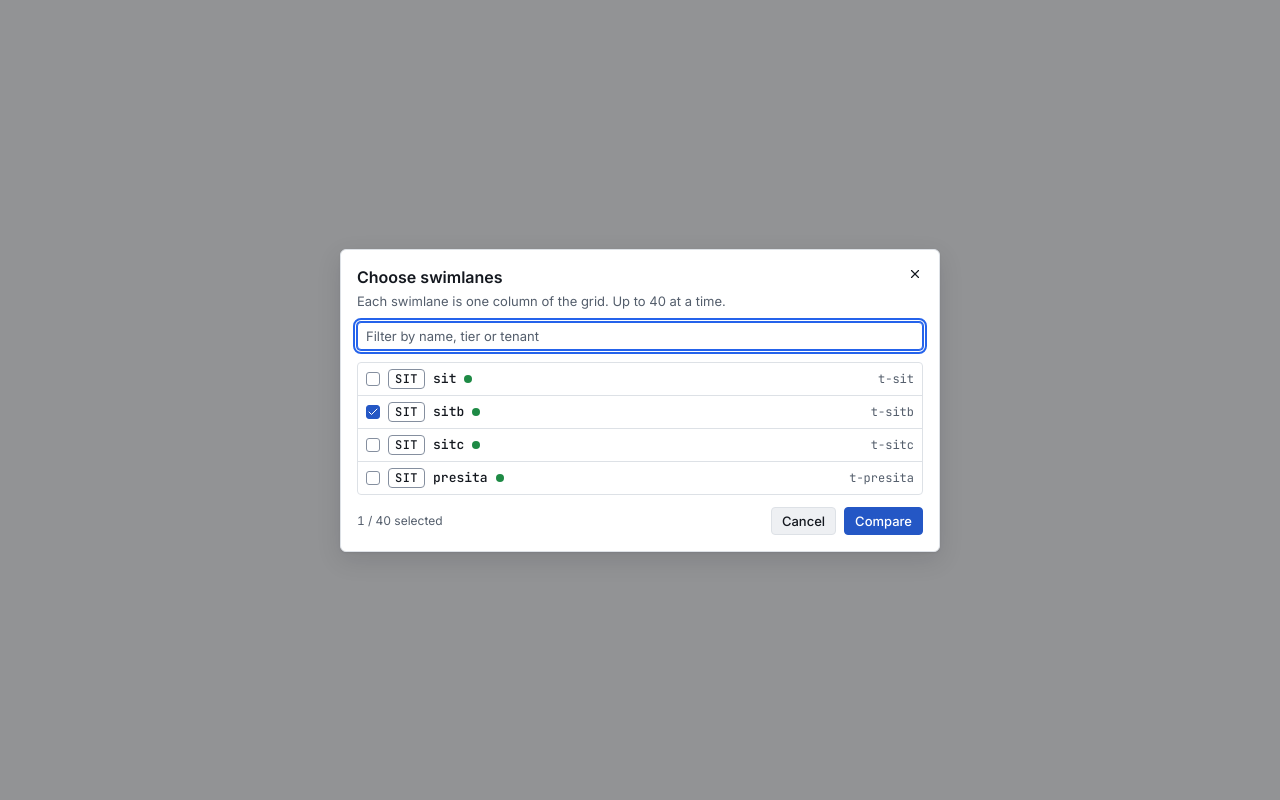
Test: choosing swimlanes › filters by name, tier and tenant
Type "presit" into the field named "Filter swimlanes" at (640, 336), box [357, 322, 923, 350]
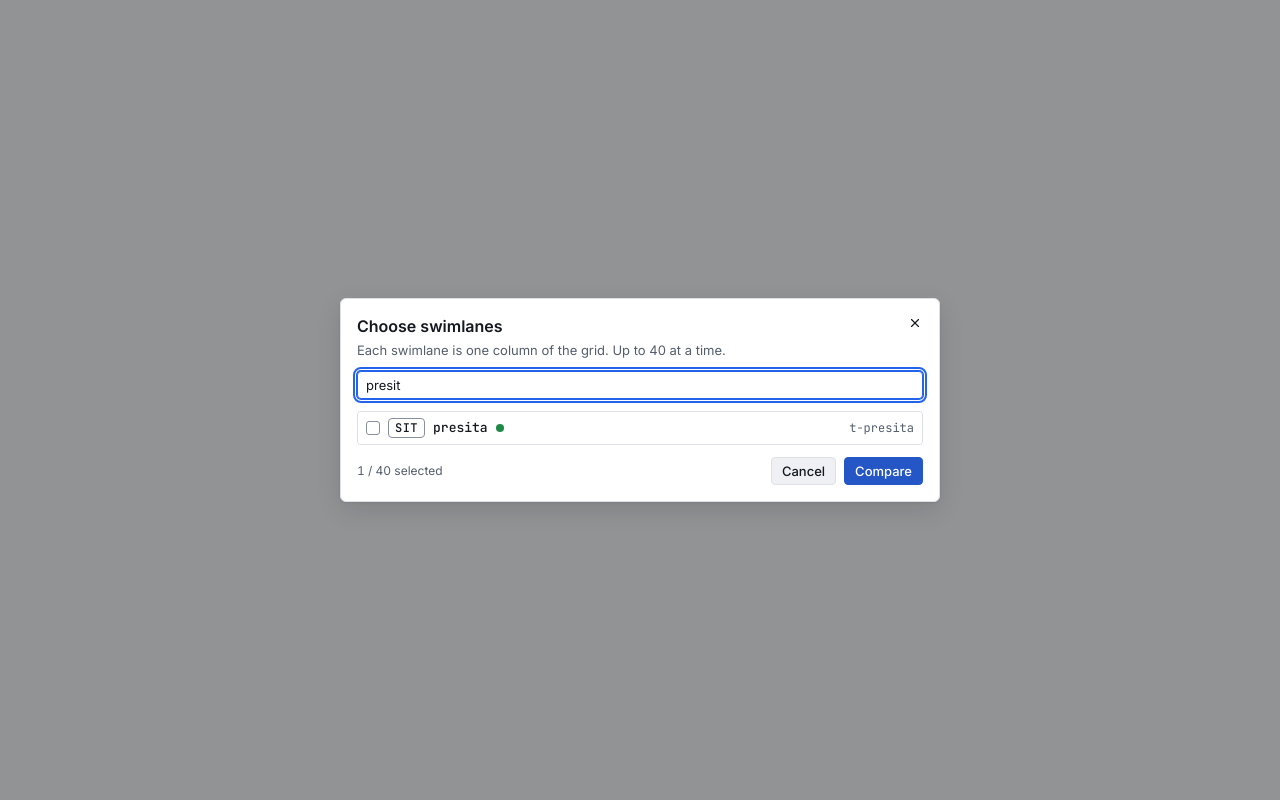
expect the number of checkboxes is 1: met, box [366, 421, 380, 435]
Clear the field named "Filter swimlanes" at (640, 385), box [357, 371, 923, 399]
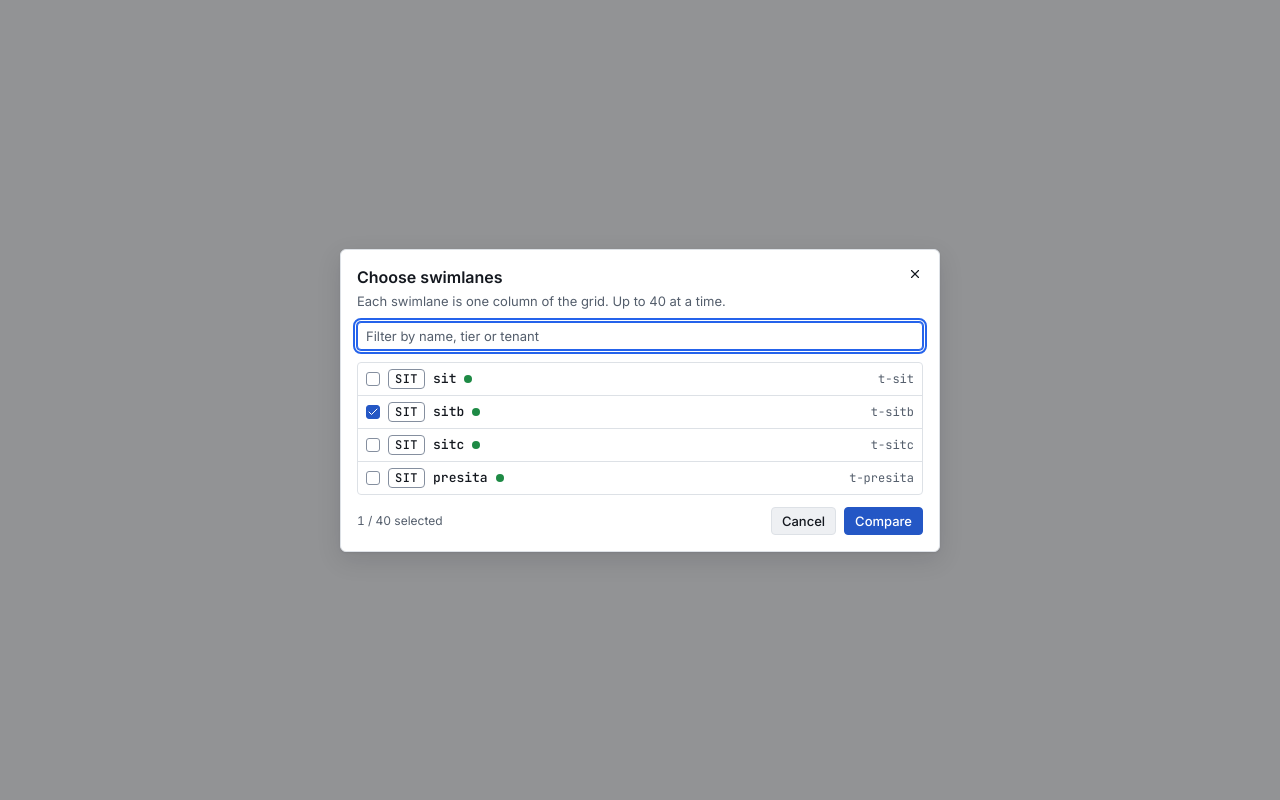
Type "t-sitc" into the field named "Filter swimlanes" at (640, 336), box [357, 322, 923, 350]
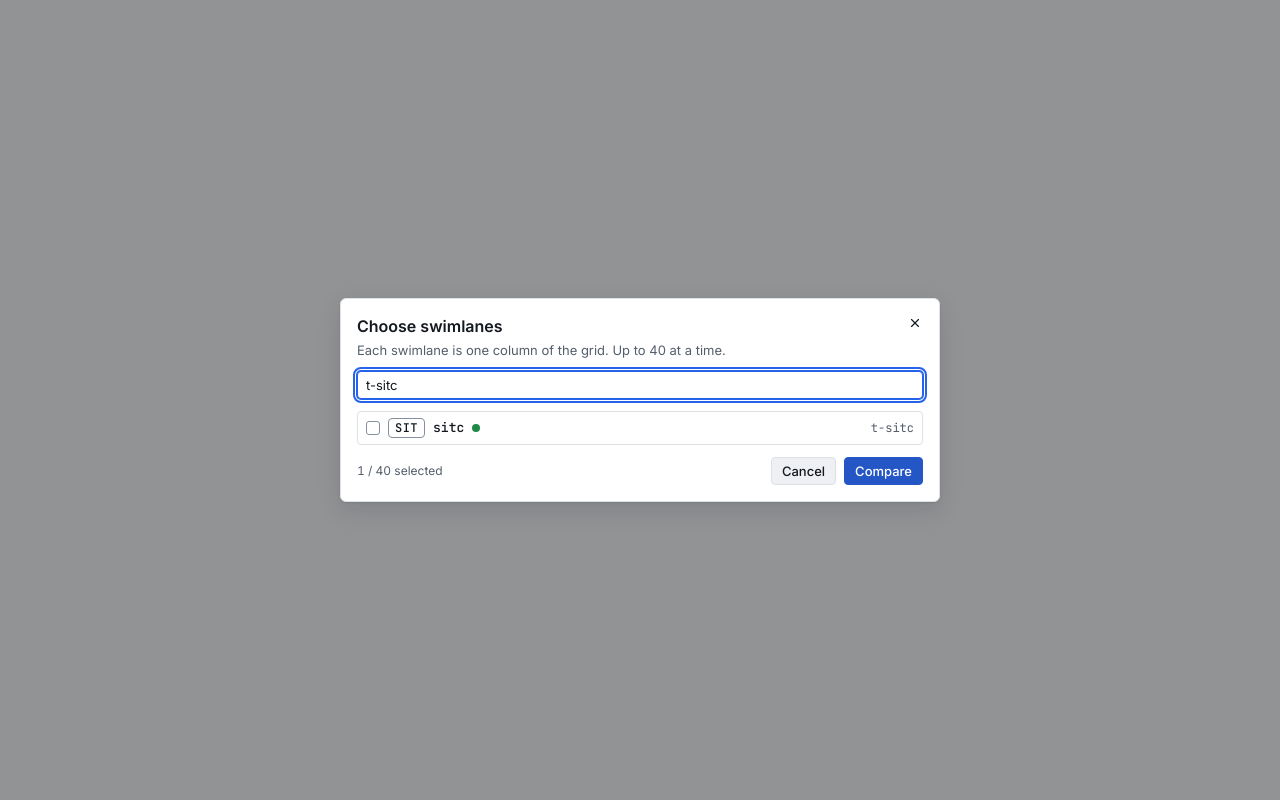
expect the checkbox named "sitc" is shown: met, box [366, 421, 380, 435]
Clear the field named "Filter swimlanes" at (640, 385), box [357, 371, 923, 399]
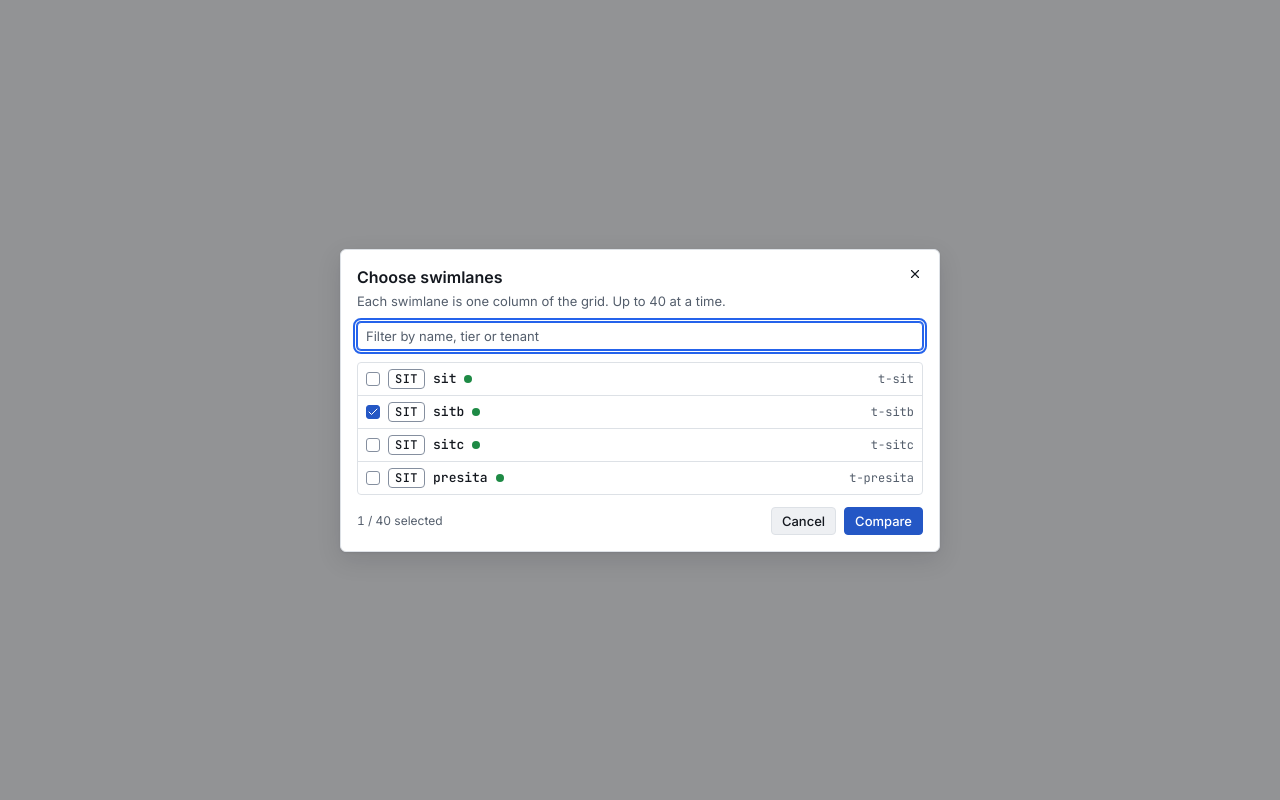
Type "zzz" into the field named "Filter swimlanes" at (640, 336), box [357, 322, 923, 350]
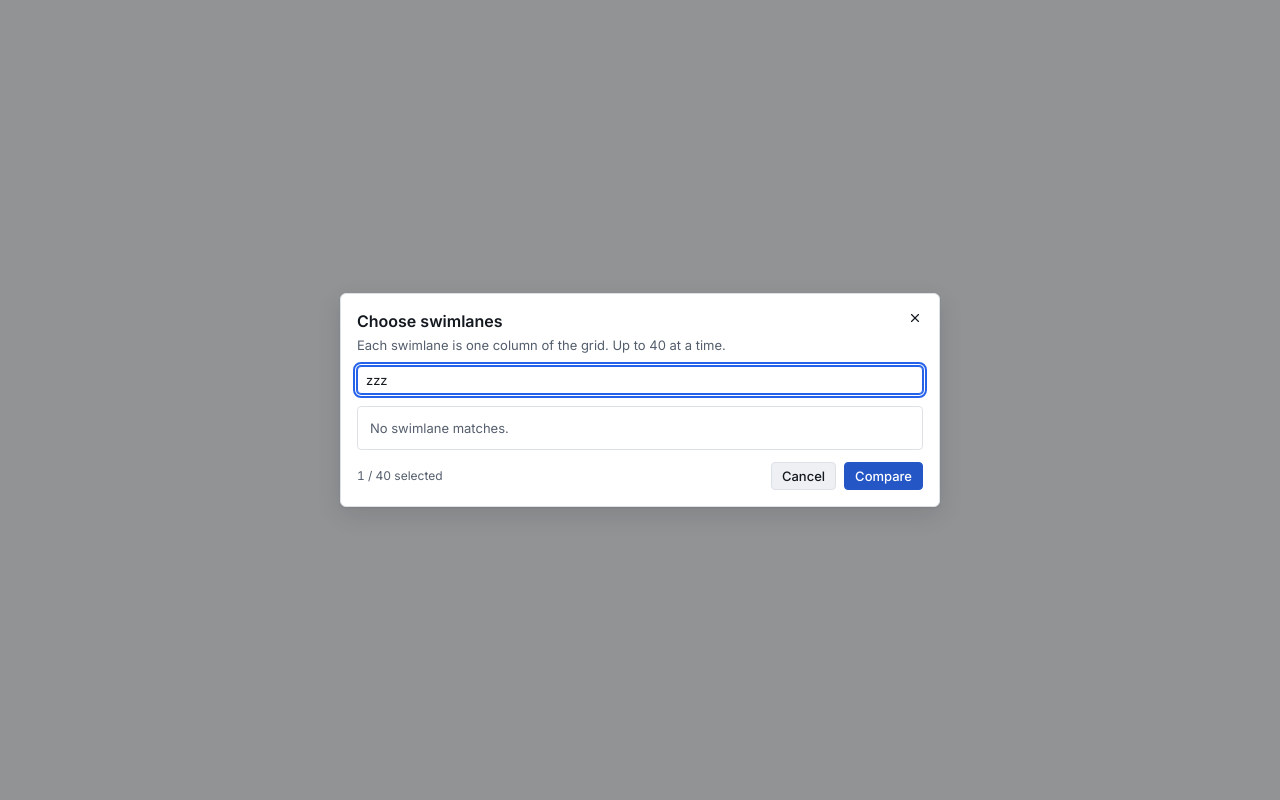
expect the list item "No swimlane matches." is shown: met, box [370, 420, 509, 436]
